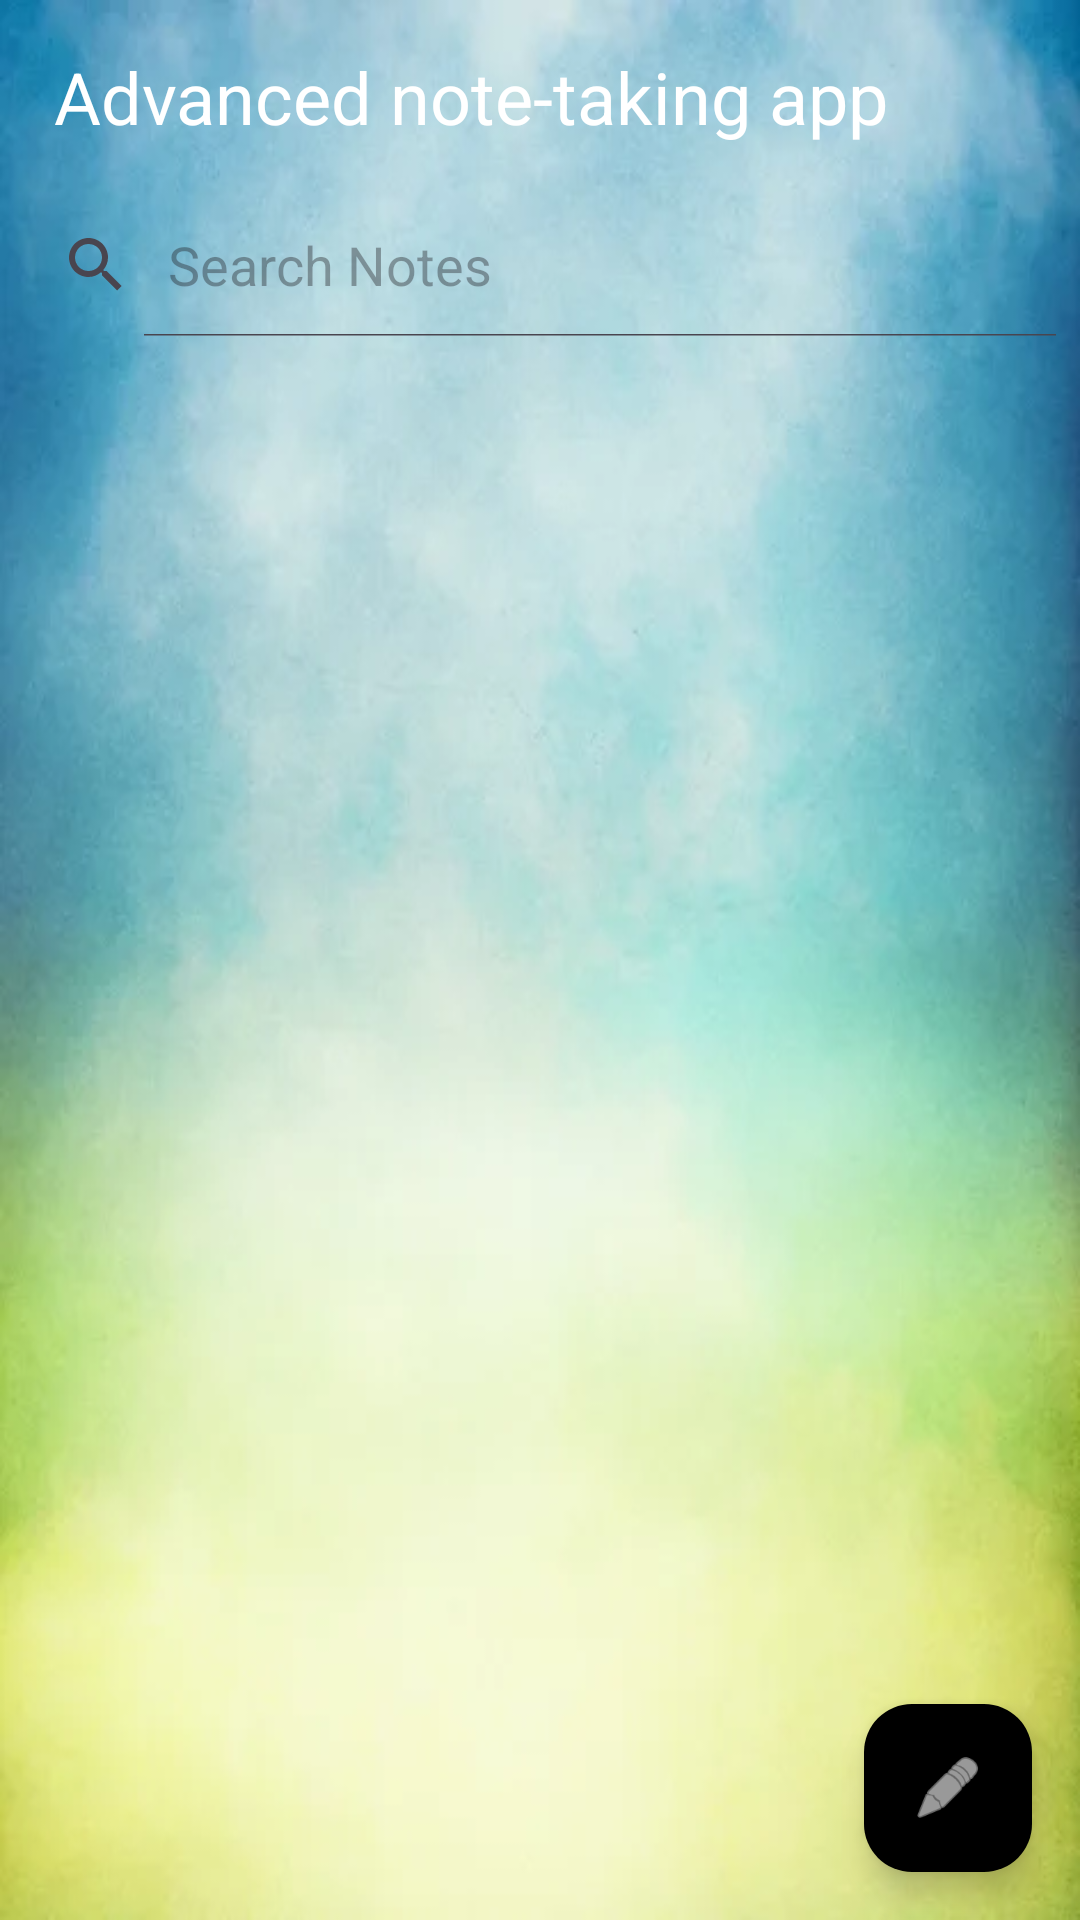

Point at icon controls on the screen. Image size 1080*1920, points as (x,y).
edit: (948,1788)
